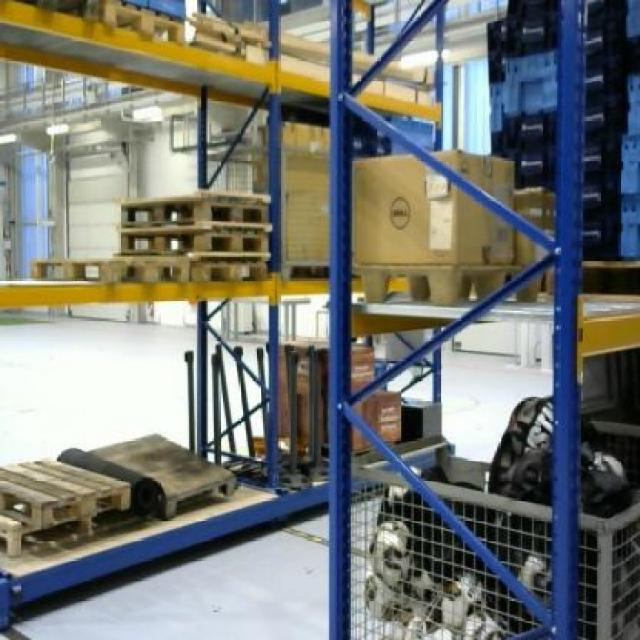box: (350, 151, 515, 264), (280, 116, 331, 262)
